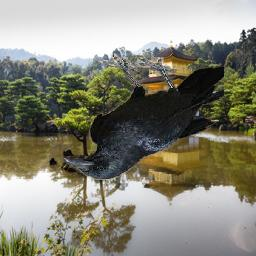Crow: (60, 54, 224, 180)
